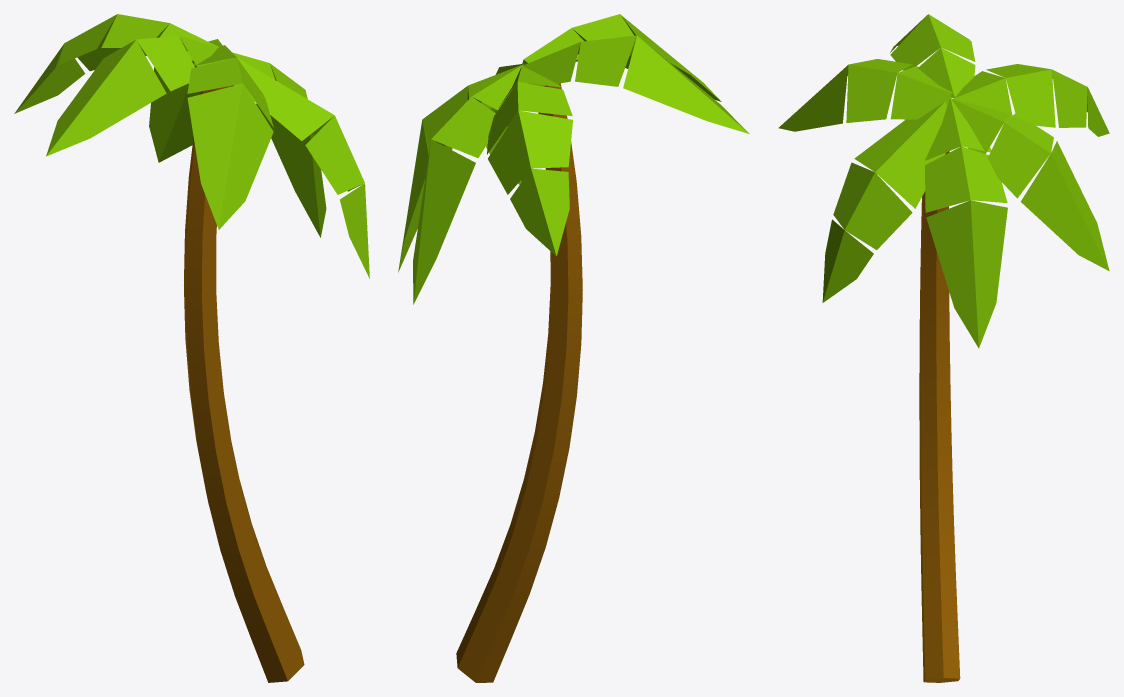
Rendered from yezishu.fbx.
The picture shows the model from 3 angles, left to right: view 1: azimuth 30°, elevation 25°; view 2: azimuth 150°, elevation 25°; view 3: azimuth 270°, elevation 25°; orthographic projection. The views are drawn at different scales.
Visible parts, largest first — view 1: pasted__yezishu2; view 2: pasted__yezishu2; view 3: pasted__yezishu2.
Part boxes in pixels (left/top/right/bottom): pasted__yezishu2: left=14, top=14, right=369, bottom=682; pasted__yezishu2: left=398, top=14, right=749, bottom=682; pasted__yezishu2: left=778, top=14, right=1109, bottom=682.
Bounding box in the file's own units: 7.43 × 15.38 × 7.6.
